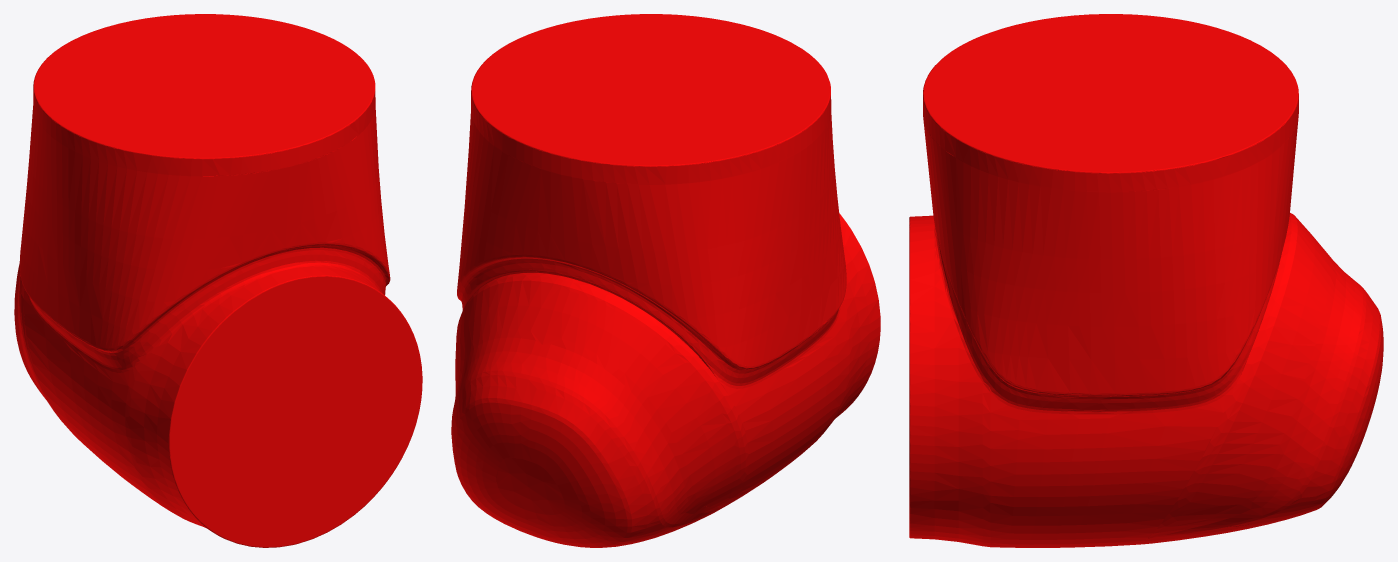
3 views of the same model, side by side, from view 1: azimuth 30°, elevation 25°; view 2: azimuth 150°, elevation 25°; view 3: azimuth 270°, elevation 25° (orthographic). The views are drawn at different scales.
Visible parts, largest first — view 1: H2515_3_0; view 2: H2515_3_0; view 3: H2515_3_0.
Boxes of the visible parts, x1,y1,x2,y2 form: H2515_3_0: [14, 14, 422, 547]; H2515_3_0: [451, 14, 880, 547]; H2515_3_0: [909, 14, 1383, 547].
Bounding box in the file's own units: 153 × 193 × 197.
